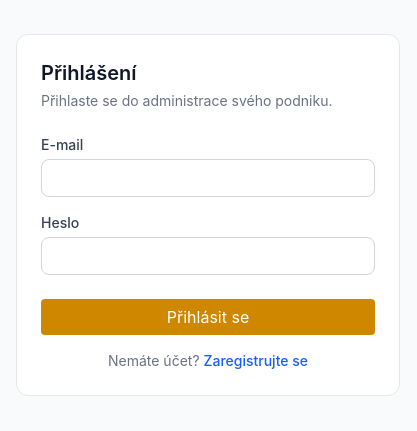
LoginPage › shows the API error message on failure
Step 1. Type "owner@example.com" into the field labelled "E-mail" → [208, 178], box top-left (41, 159), bottom-right (375, 197)
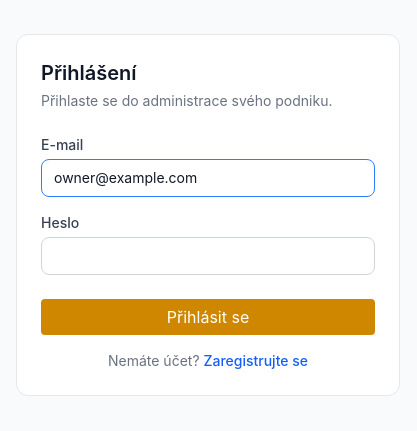
Step 2. Type "wrong" into the password field labelled "Heslo" → [208, 256], box top-left (41, 237), bottom-right (375, 275)
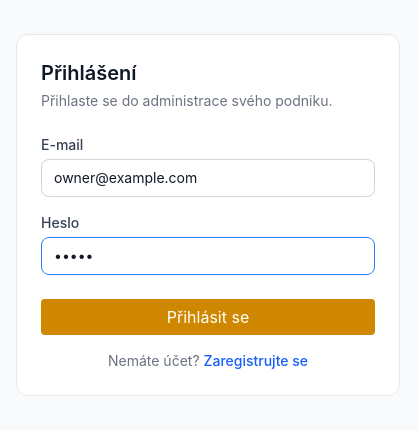
Step 3. Click the button "Přihlásit se" → [208, 317], box top-left (41, 299), bottom-right (375, 335)
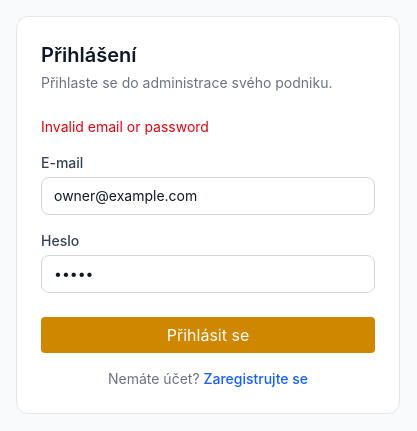
Check: the text "Invalid email or password" is shown, box top-left (41, 118), bottom-right (209, 135)
